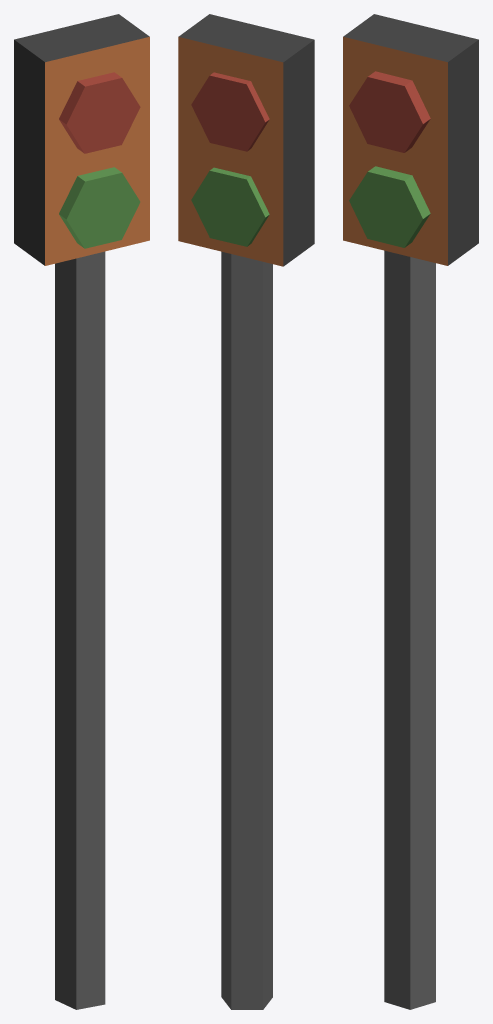
The model's file is pillar_001.fbx.
3 views of the same model, side by side, from view 1: azimuth 30°, elevation 25°; view 2: azimuth 150°, elevation 25°; view 3: azimuth 330°, elevation 25° (orthographic).
Visible parts, largest first — view 1: pillar_001; view 2: pillar_001; view 3: pillar_001.
Part boxes in pixels (left/top/right/bottom): pillar_001: left=14, top=14, right=149, bottom=1009; pillar_001: left=178, top=14, right=314, bottom=1009; pillar_001: left=343, top=14, right=478, bottom=1009.
Bounding box in the file's own units: 32.04 × 281 × 22.82.
